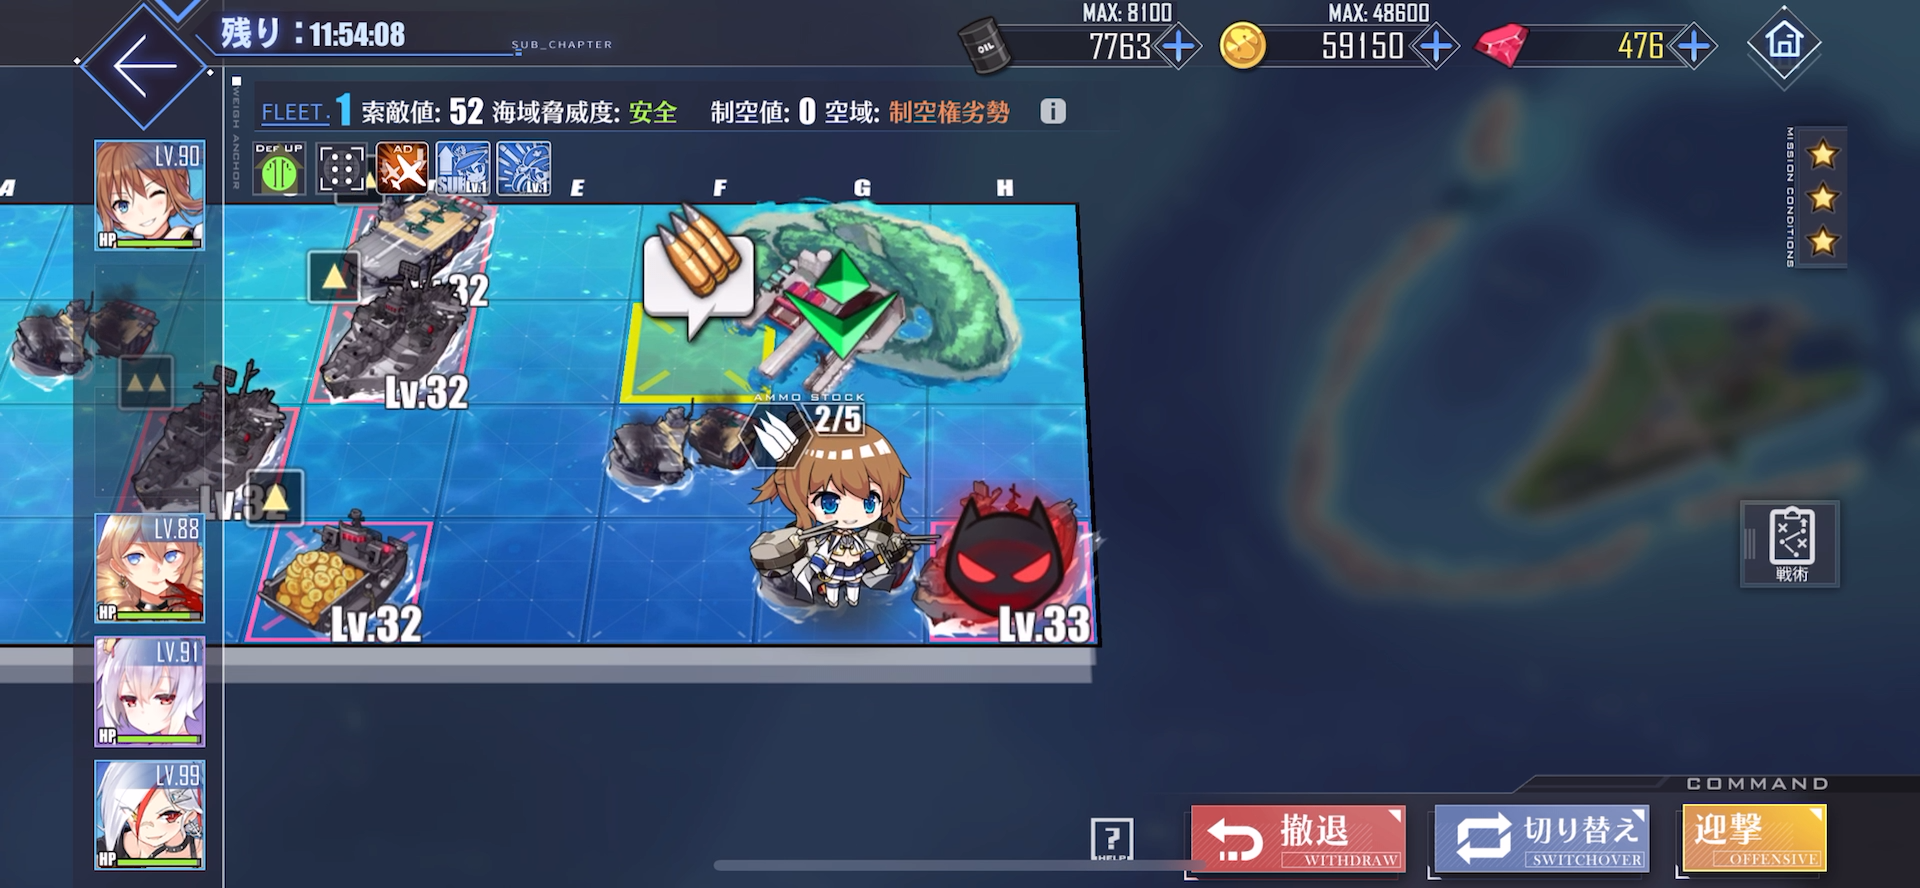boss: (921, 487, 1095, 645)
